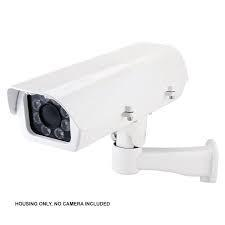tutu: (4, 39, 192, 155)
